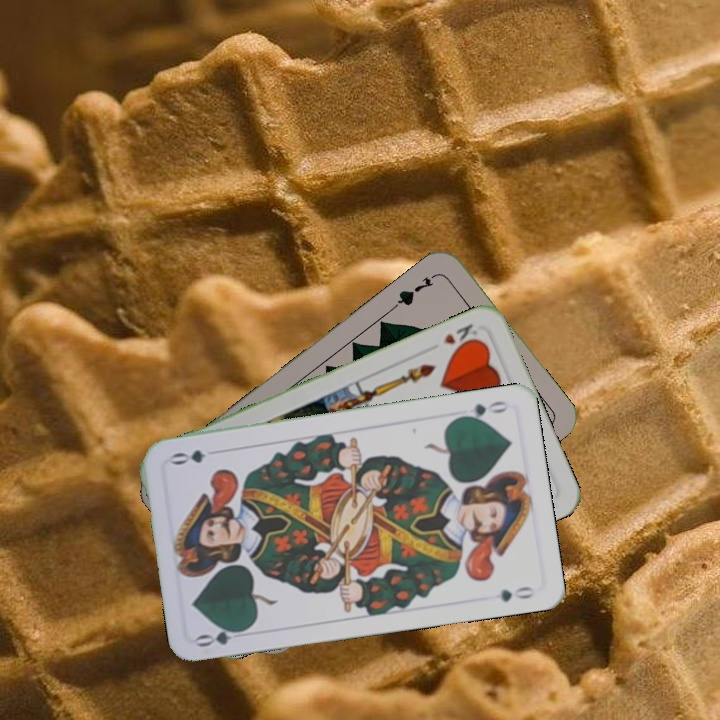G7: (390, 269, 441, 311)
GO: (193, 622, 251, 650), (453, 397, 512, 423)
HK: (439, 319, 484, 353)
